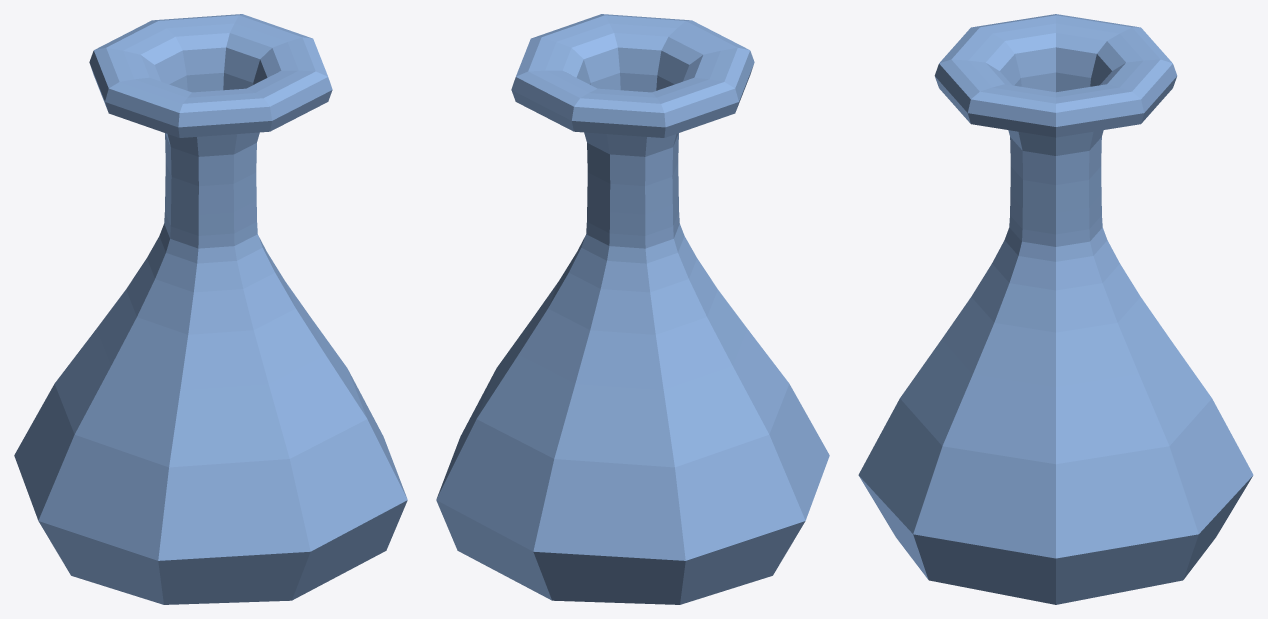
File: Reagenzglas02_Liquid.fbx
3 views of the same model, side by side, from view 1: azimuth 30°, elevation 25°; view 2: azimuth 150°, elevation 25°; view 3: azimuth 270°, elevation 25° (orthographic).
Parts seen in each view (by area): view 1: Reagenzglas_Liquid; view 2: Reagenzglas_Liquid; view 3: Reagenzglas_Liquid.
Part boxes in pixels (left/top/right/bottom): Reagenzglas_Liquid: left=14, top=14, right=407, bottom=604; Reagenzglas_Liquid: left=436, top=14, right=829, bottom=604; Reagenzglas_Liquid: left=858, top=14, right=1253, bottom=604.
Bounding box in the file's own units: 0.3299 × 0.4607 × 0.3299.
